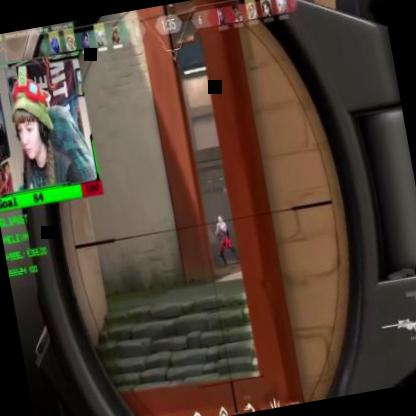enemy: (210, 214, 242, 267)
enemy_head: (216, 214, 222, 224)
